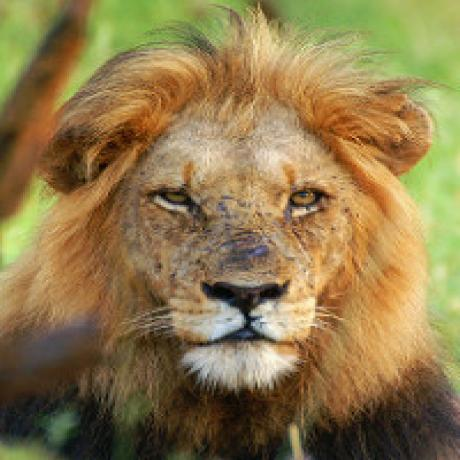Lion: (14, 9, 460, 460)
